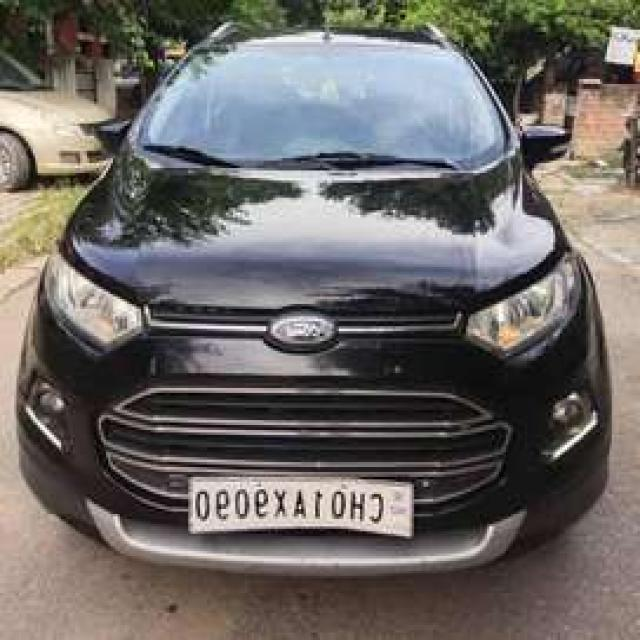license_plate: (187, 477, 415, 541)
